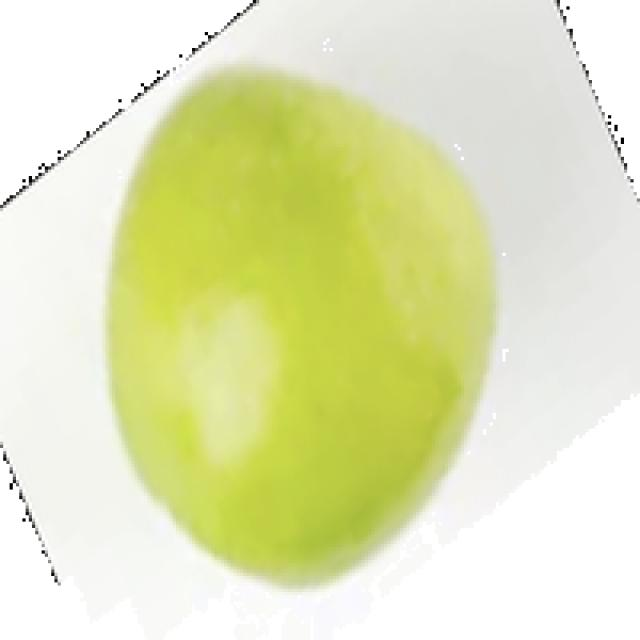apple: (96, 32, 509, 637)
